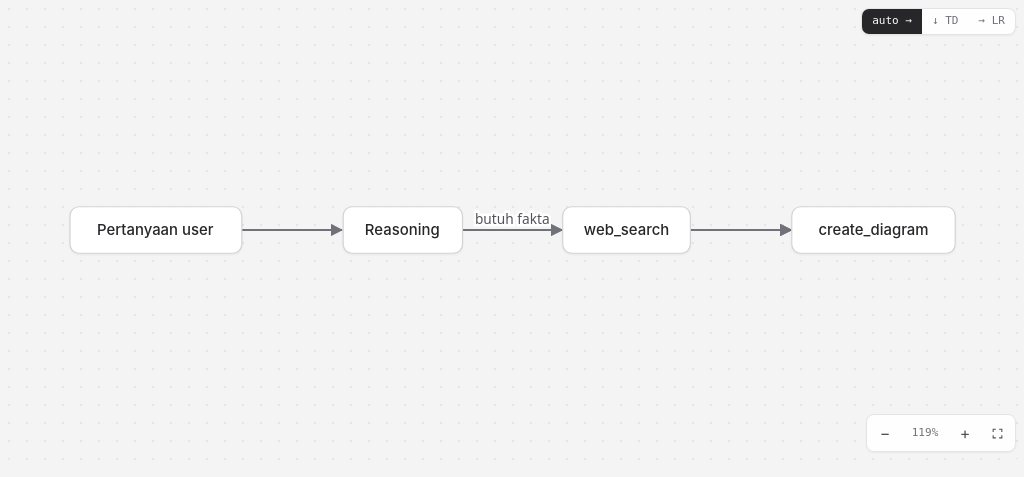
Scenario: GraphView › klik node membuka inspektur relasi
Press the mouse on the button with test id "graph-node-B" at (402, 230), box [342,206,462,254]
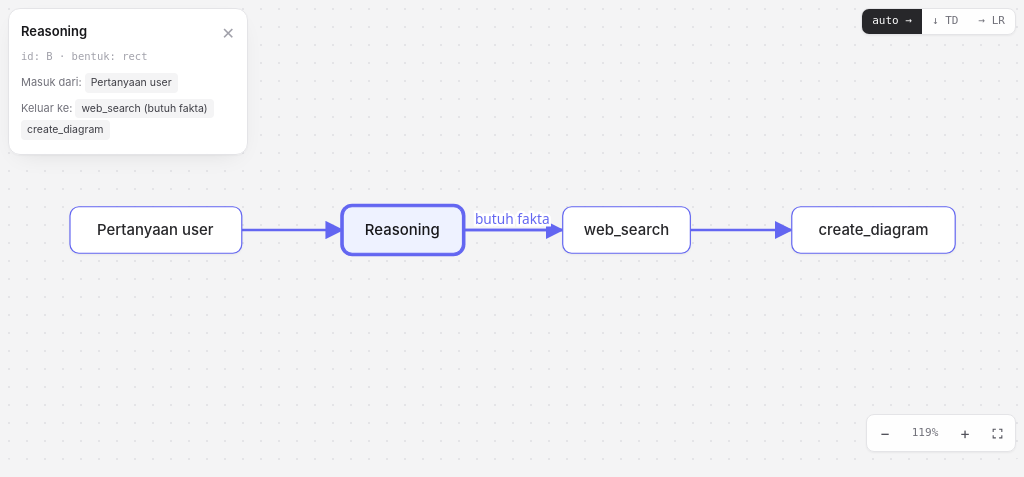
Expected: the element with test id "graph-inspector" shows "Reasoning", [21,23,87,39]
Expected: the element with test id "graph-inspector" shows "web_search", [75,98,214,118]
